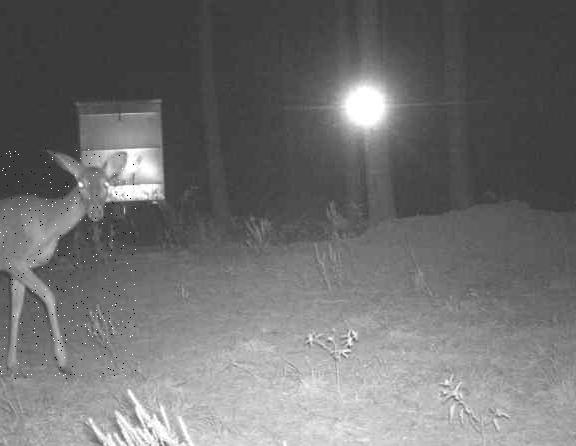Deer: (0, 148, 136, 379)
